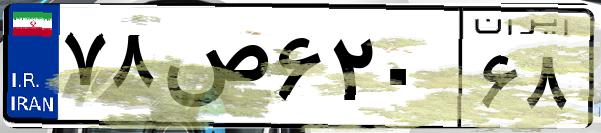0: (385, 28, 445, 110)
2: (330, 28, 385, 110)
6: (270, 28, 330, 110), (475, 38, 525, 113)
7: (57, 26, 110, 100)
8: (525, 38, 570, 115), (110, 28, 158, 98)
ص: (158, 20, 270, 120)
